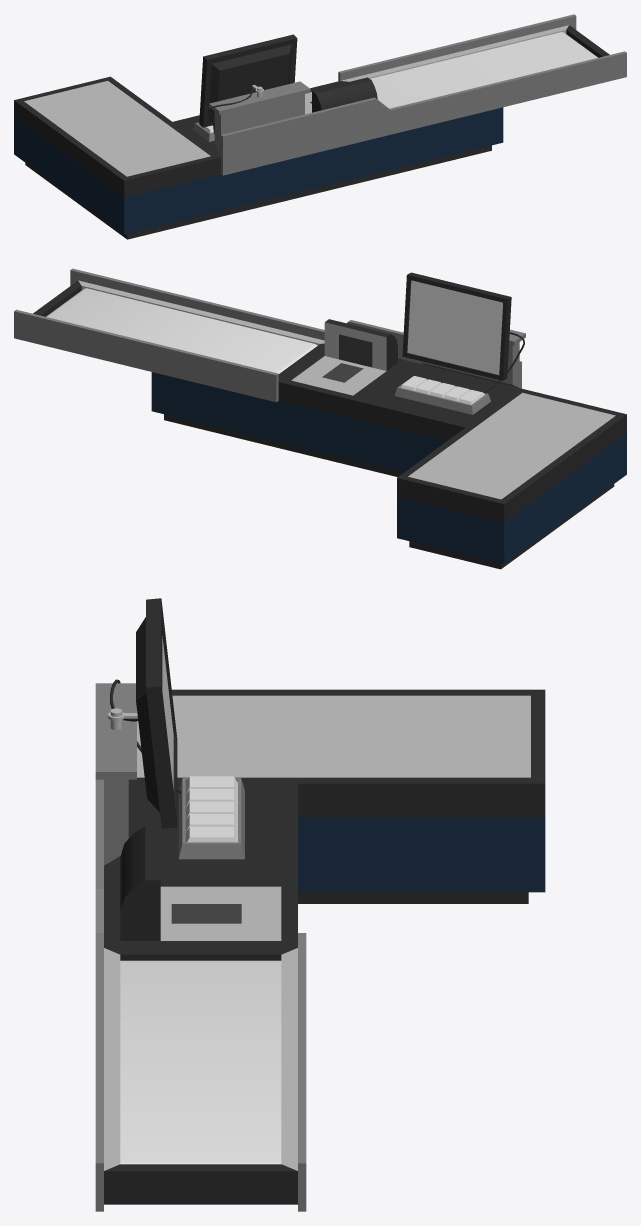
The model's file is checkoutlane.fbx.
3 views of the same model, one above another, from view 1: azimuth 30°, elevation 25°; view 2: azimuth 150°, elevation 25°; view 3: azimuth 270°, elevation 25° (orthographic). The views are drawn at different scales.
Parts seen in each view (by area): view 1: Counter, Belt, Monitor; view 2: Counter, Belt, Monitor, Keyboard Frame; view 3: Counter, Belt, Monitor, Keyboard Frame, Key.
Boxes of the visible parts, x1,y1,x2,y2 form: Counter: (14,14,626,239); Belt: (370,32,597,108); Monitor: (199,34,297,127); Counter: (14,268,626,569); Belt: (46,288,317,373); Monitor: (402,272,511,380); Keyboard Frame: (394,376,490,414); Counter: (95,683,545,1211); Belt: (120,960,281,1164); Monitor: (136,598,177,828); Keyboard Frame: (178,778,244,859); Key: (185,826,237,842).
Bounding box in the file's own units: 701 × 207 × 273.
